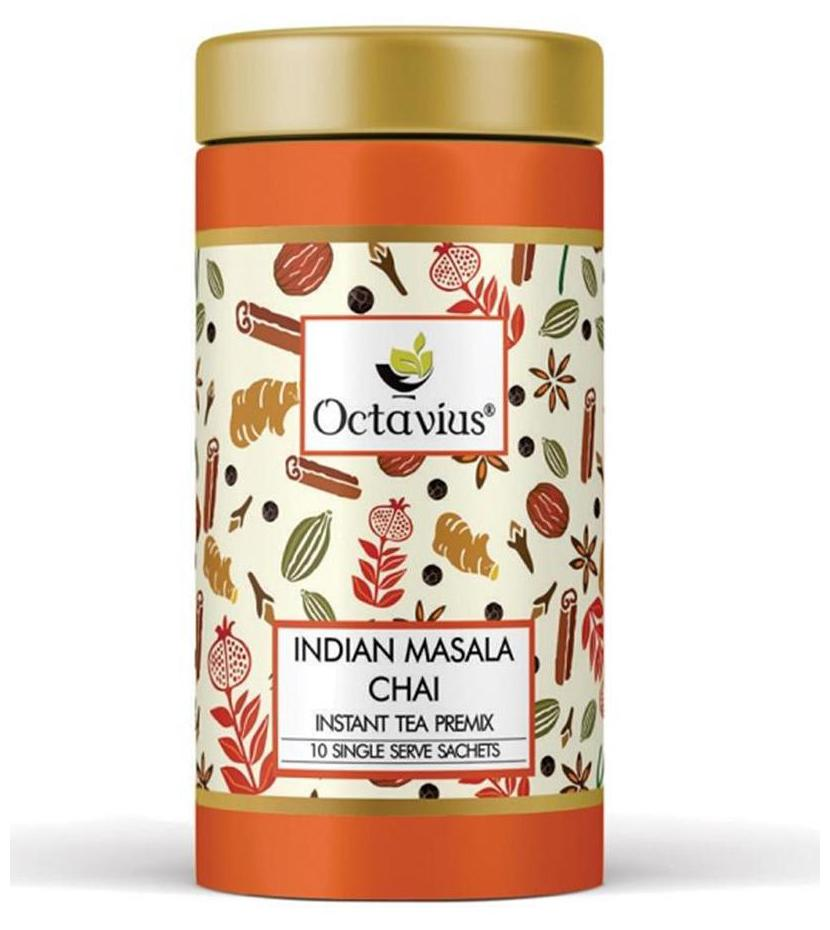JAR: (182, 18, 619, 910)
